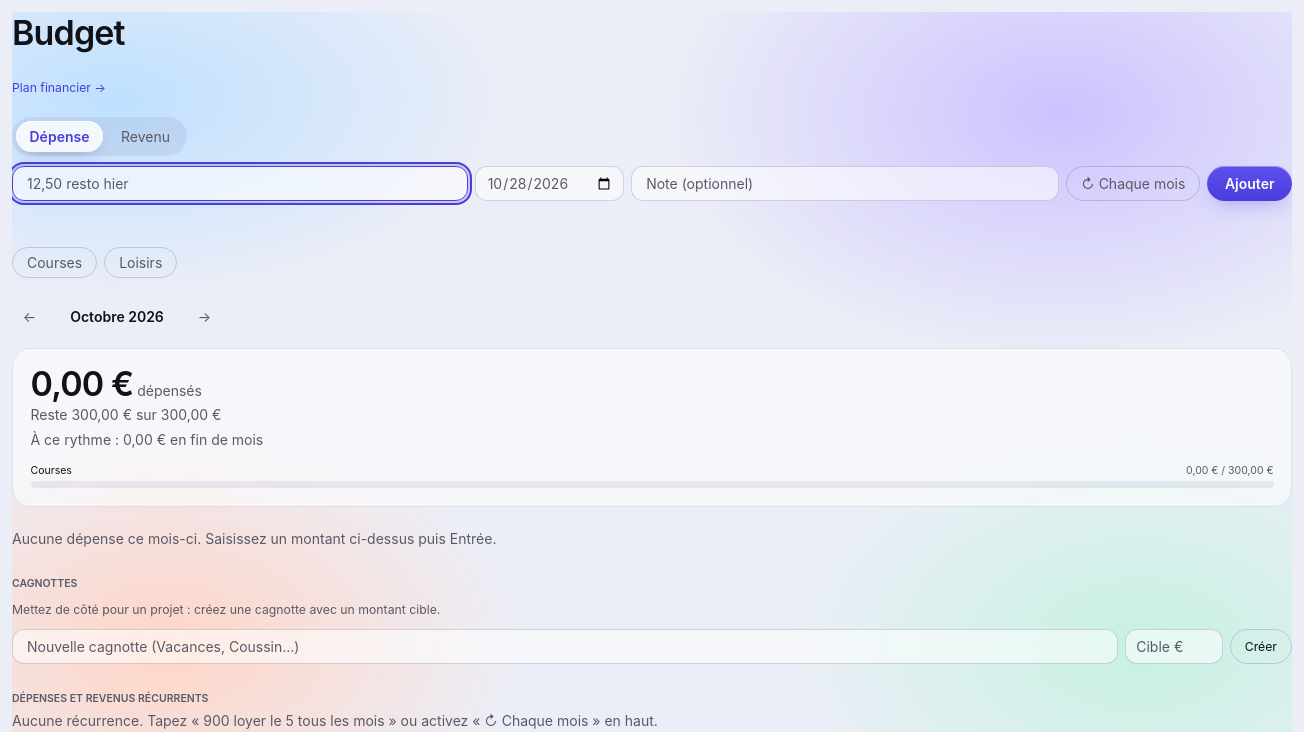
Test: BudgetPage › saisit une dépense en centimes avec une catégorie et met à jour le total
This screenshot has width=1304, height=732.
Click the button "Courses" at {"x": 55, "y": 262}, box [12, 246, 97, 278]
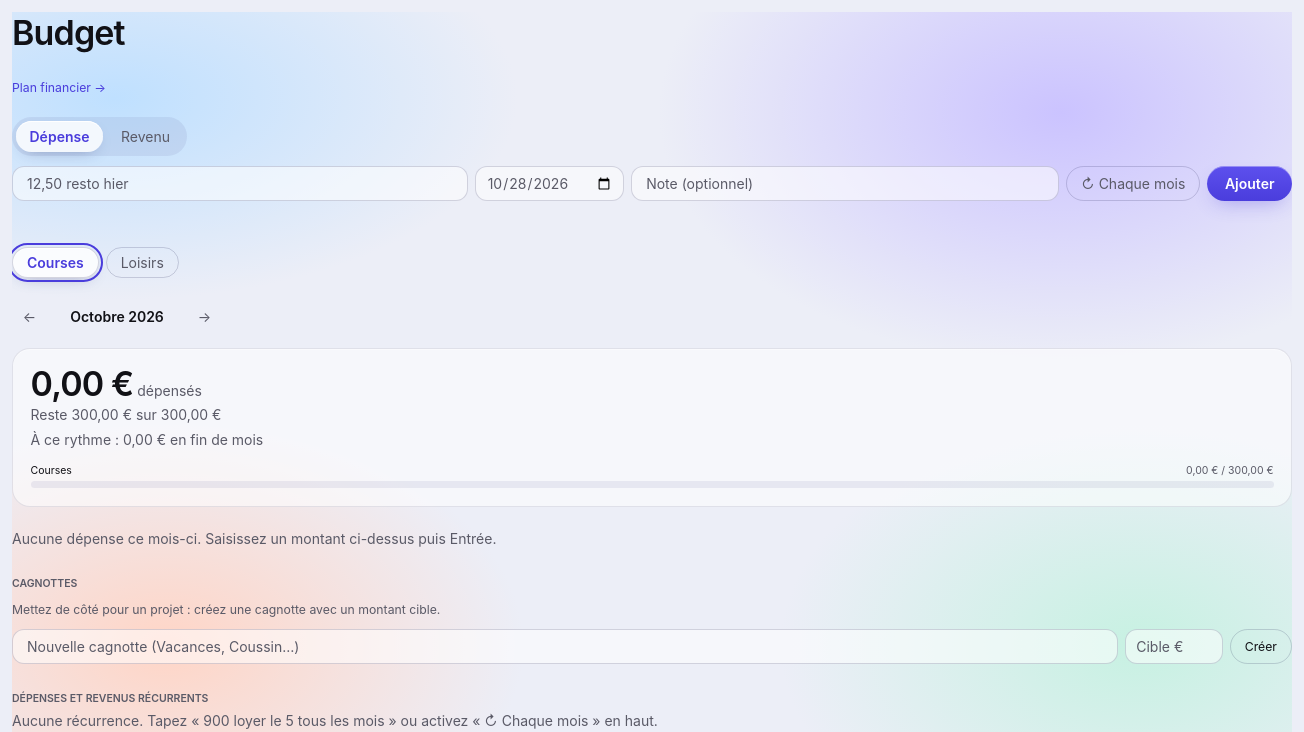
Type "12,50" into the field named "Montant en euros" at {"x": 240, "y": 184}, box [12, 166, 468, 201]
Then press Enter
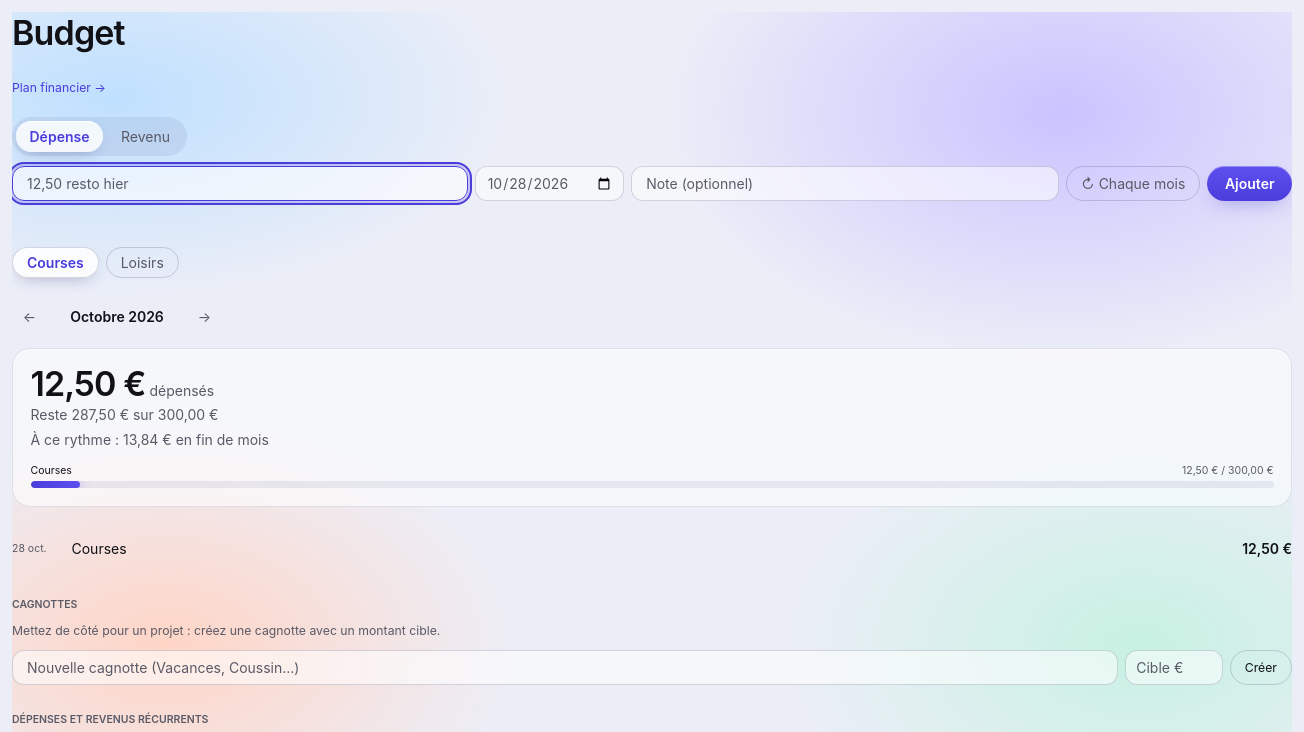
Expected: the text "Reste 287,50 € sur 300,00 €" is shown, [30, 406, 218, 423]
